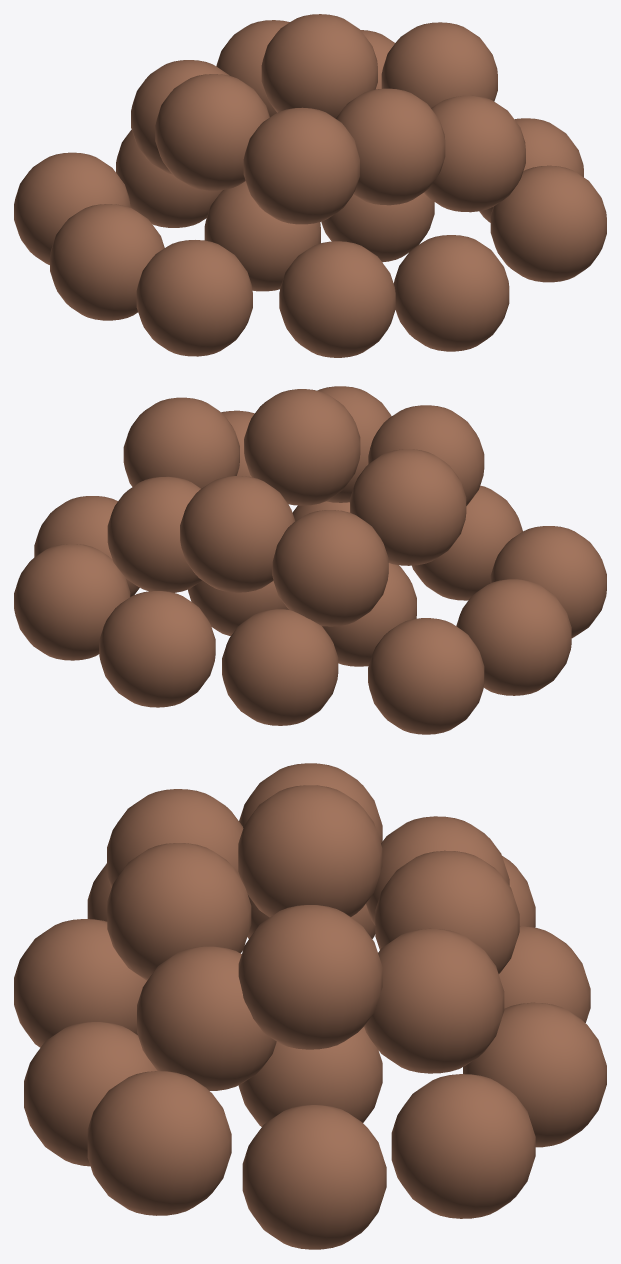
The model's file is CurryNut.fbx.
3 views of the same model, one above another, from view 1: azimuth 30°, elevation 25°; view 2: azimuth 150°, elevation 25°; view 3: azimuth 270°, elevation 25° (orthographic). The views are drawn at different scales.
Visible parts, largest first — view 1: 球.013, 球.014, 球.010, 球.012, 球.011, 球.003, 球.007, 球.008, 球.001, 球.009, 球.002, 球.021 (+7 smaller); view 2: 球.021, 球.019, 球.020, 球.017, 球.001, 球.015, 球.003, 球.018, 球.007, 球.002, 球.016, 球.014 (+8 smaller); view 3: 球.018, 球.004, 球.011, 球.002, 球.016, 球.001, 球.008, 球.009, 球.019, 球.013, 球.015, 球.012 (+8 smaller).
Part boxes in pixels (bbox=[...]): 球.013: bbox=[279, 241, 395, 357]; 球.014: bbox=[136, 240, 252, 356]; 球.010: bbox=[243, 107, 359, 224]; 球.012: bbox=[393, 235, 509, 351]; 球.011: bbox=[490, 165, 606, 282]; 球.003: bbox=[155, 74, 269, 190]; 球.007: bbox=[50, 204, 164, 320]; 球.008: bbox=[336, 88, 445, 205]; 球.001: bbox=[261, 14, 377, 118]; 球.009: bbox=[424, 95, 525, 212]; 球.002: bbox=[381, 22, 497, 107]; 球.021: bbox=[14, 152, 130, 264]; 球.021: bbox=[368, 618, 484, 734]; 球.019: bbox=[99, 591, 215, 707]; 球.020: bbox=[222, 609, 338, 725]; 球.017: bbox=[272, 510, 388, 626]; 球.001: bbox=[244, 389, 360, 505]; 球.015: bbox=[180, 476, 295, 592]; 球.003: bbox=[350, 449, 466, 565]; 球.018: bbox=[14, 544, 130, 660]; 球.007: bbox=[456, 579, 571, 695]; 球.002: bbox=[123, 397, 239, 488]; 球.016: bbox=[107, 476, 202, 592]; 球.014: bbox=[490, 526, 606, 638]; 球.018: bbox=[391, 1074, 535, 1218]; 球.004: bbox=[242, 1105, 386, 1249]; 球.011: bbox=[87, 1071, 231, 1215]; 球.002: bbox=[238, 905, 382, 1049]; 球.016: bbox=[364, 928, 504, 1073]; 球.001: bbox=[238, 785, 382, 917]; 球.008: bbox=[107, 843, 251, 980]; 球.009: bbox=[137, 946, 276, 1090]; 球.019: bbox=[463, 1002, 606, 1147]; 球.013: bbox=[14, 919, 146, 1047]; 球.015: bbox=[375, 850, 519, 973]; 球.012: bbox=[24, 1022, 157, 1166].
Size of the model in its own units: 379 by 192 by 302.
